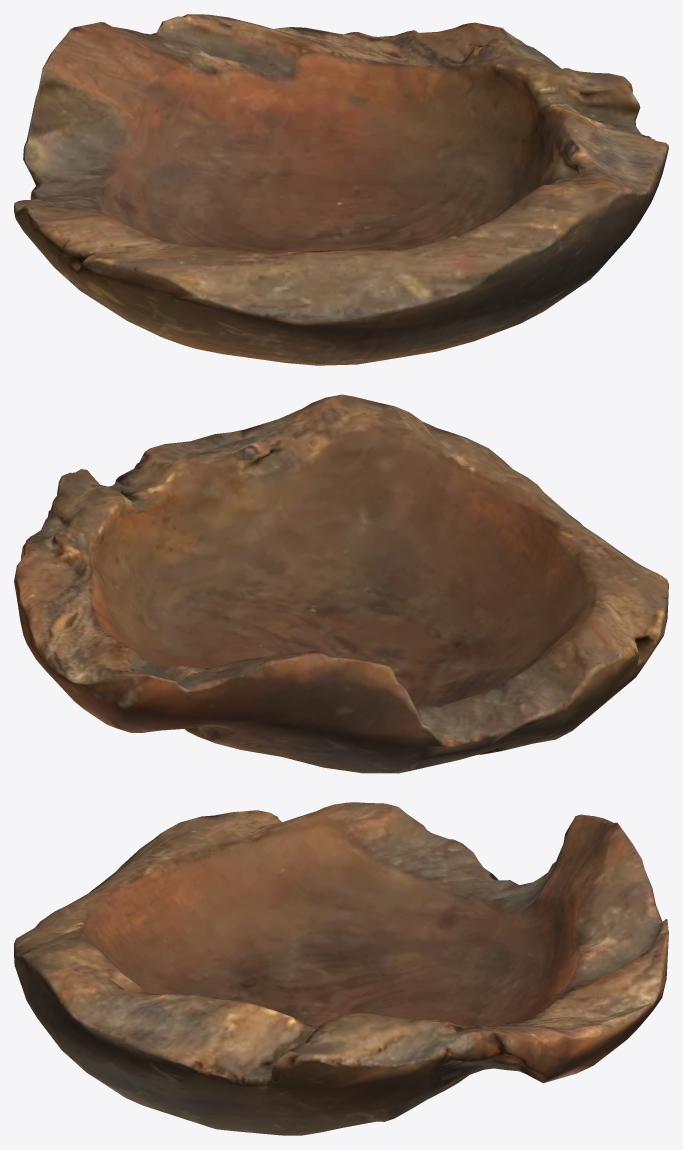
File: wooden-bowl.glb
3 views of the same model, one above another, from view 1: azimuth 30°, elevation 25°; view 2: azimuth 150°, elevation 25°; view 3: azimuth 270°, elevation 25° (orthographic). The views are drawn at different scales.
Parts seen in each view (by area): view 1: wooden_bowl_01; view 2: wooden_bowl_01; view 3: wooden_bowl_01.
Boxes of the visible parts, x1,y1,x2,y2 form: wooden_bowl_01: [14, 14, 668, 365]; wooden_bowl_01: [14, 394, 668, 773]; wooden_bowl_01: [14, 802, 668, 1135].
Bounding box in the file's own units: 0.313 × 0.0935 × 0.3088.
1 material, 1 textured.
